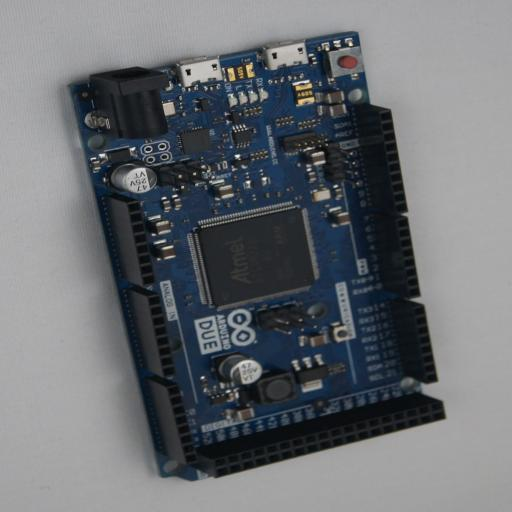Arduino Due: (66, 31, 446, 481)
